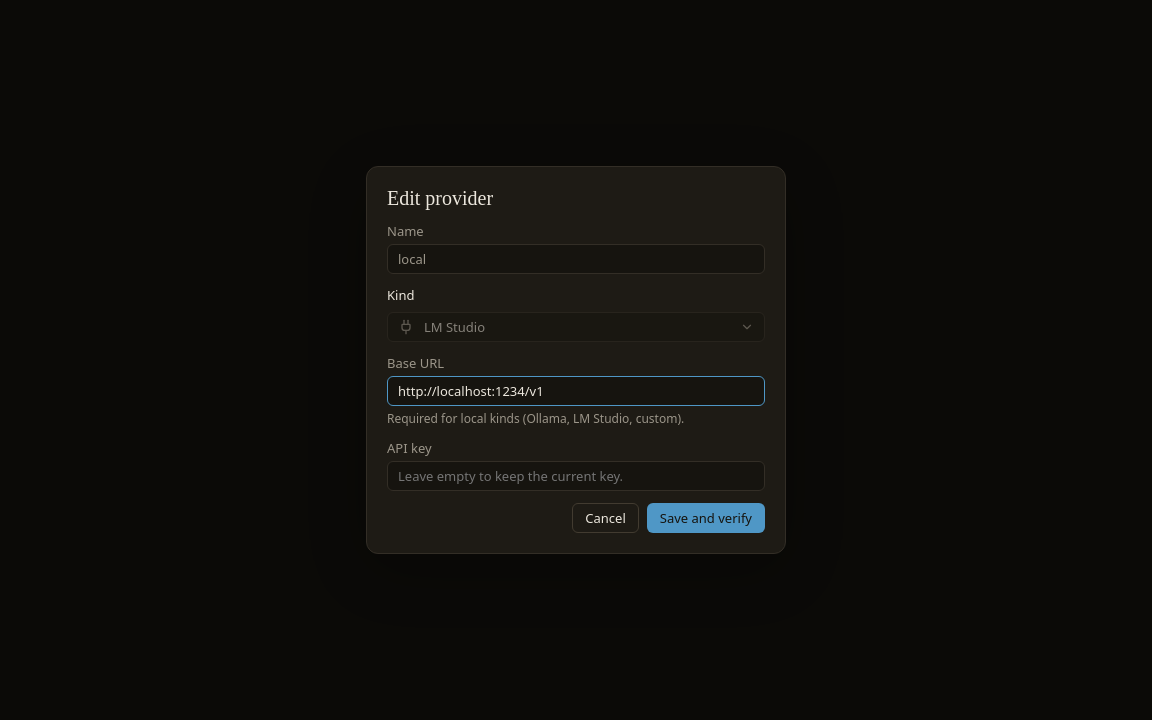
Test: provider settings › shows the provider rejection reason without closing the form
The width and height of the screenshot is (1152, 720).
Click the button "Save and verify". click: click(706, 518)
box: 647,503 -> 765,533
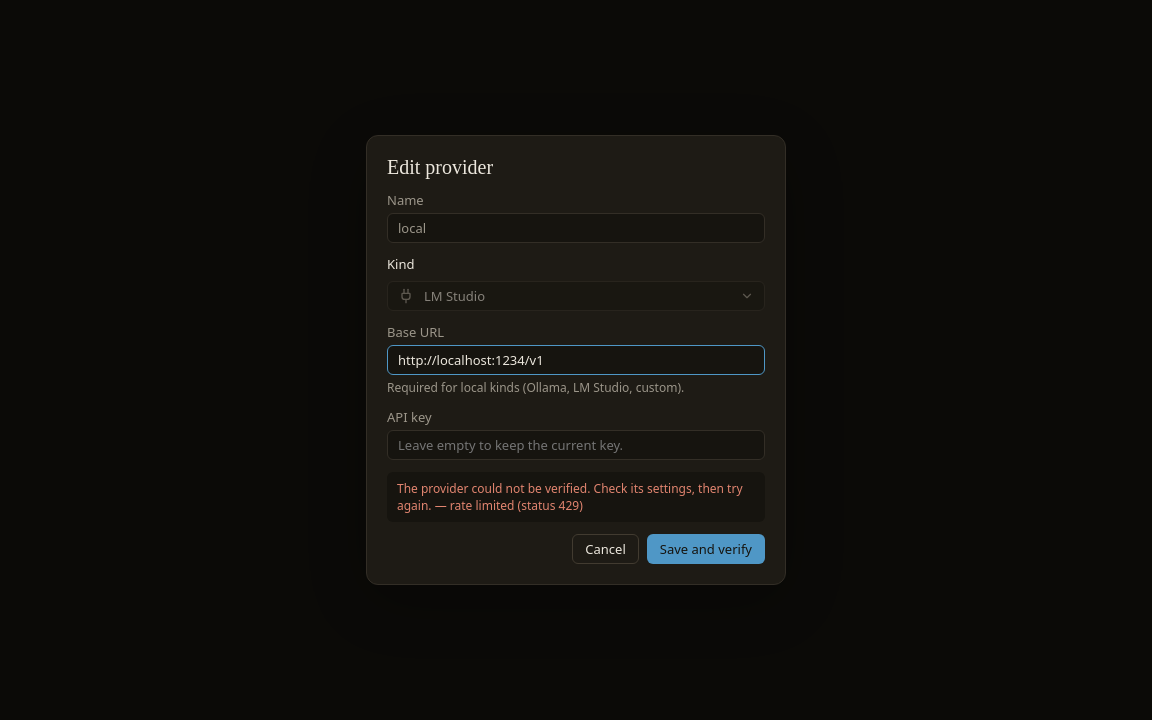
Expected: the message shows "rate limited (status 429)", 397,480 -> 742,514
